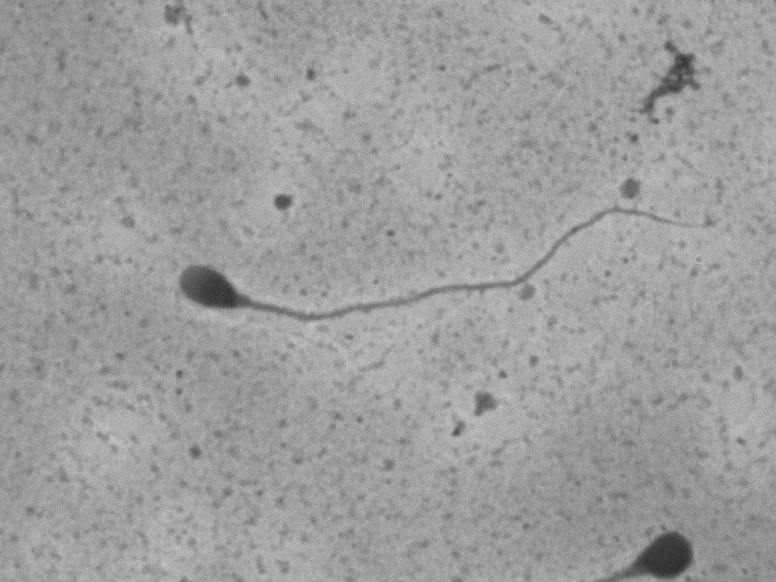Normal: (147, 175, 728, 348)
